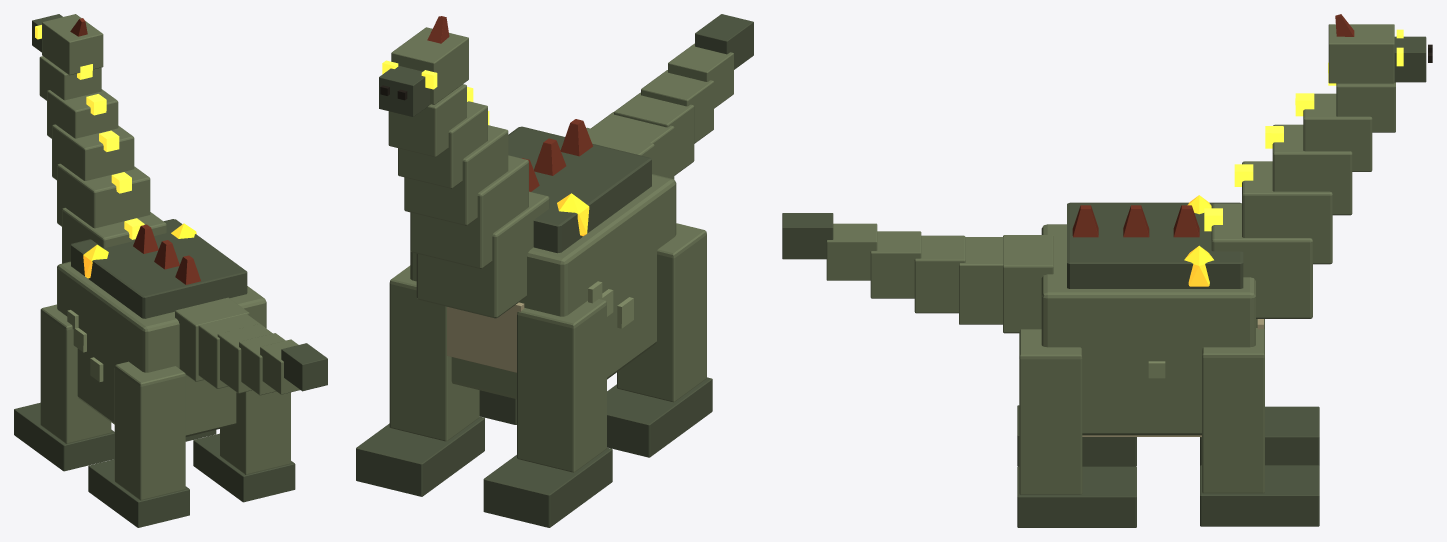
The model's file is bronto.glb.
The picture shows the model from 3 angles, left to right: view 1: azimuth 30°, elevation 25°; view 2: azimuth 150°, elevation 25°; view 3: azimuth 270°, elevation 25°; orthographic projection. The views are drawn at different scales.
Parts seen in each view (by area): view 1: body, leg.BR, tail, leg.FR, leg.BL, head; view 2: body, leg.FR, leg.FL, leg.BR, tail, head, leg.BL; view 3: body, tail, leg.BL, leg.FL, head, leg.FR, leg.BR.
Boxes of the visible parts, left/top/right/bottom form: body: left=39, top=56, right=266, bottom=436; leg.BR: left=88, top=361, right=189, bottom=527; tail: left=175, top=297, right=327, bottom=395; leg.FR: left=14, top=304, right=114, bottom=471; leg.BL: left=193, top=390, right=295, bottom=502; head: left=32, top=14, right=103, bottom=75; body: left=388, top=84, right=676, bottom=399; leg.FR: left=483, top=299, right=612, bottom=527; leg.FL: left=356, top=265, right=484, bottom=496; leg.BR: left=607, top=223, right=712, bottom=457; tail: left=586, top=14, right=753, bottom=179; head: left=379, top=16, right=468, bottom=116; leg.BL: left=479, top=390, right=516, bottom=424; body: left=1041, top=62, right=1395, bottom=436; tail: left=782, top=213, right=1053, bottom=333; leg.BL: left=1017, top=329, right=1136, bottom=527; leg.FL: left=1200, top=328, right=1319, bottom=526; head: left=1328, top=14, right=1432, bottom=83; leg.FR: left=1200, top=319, right=1319, bottom=465; leg.BR: left=1017, top=405, right=1136, bottom=466.
Bounding box in the file's own units: 0.4216 × 1 × 1.26.
